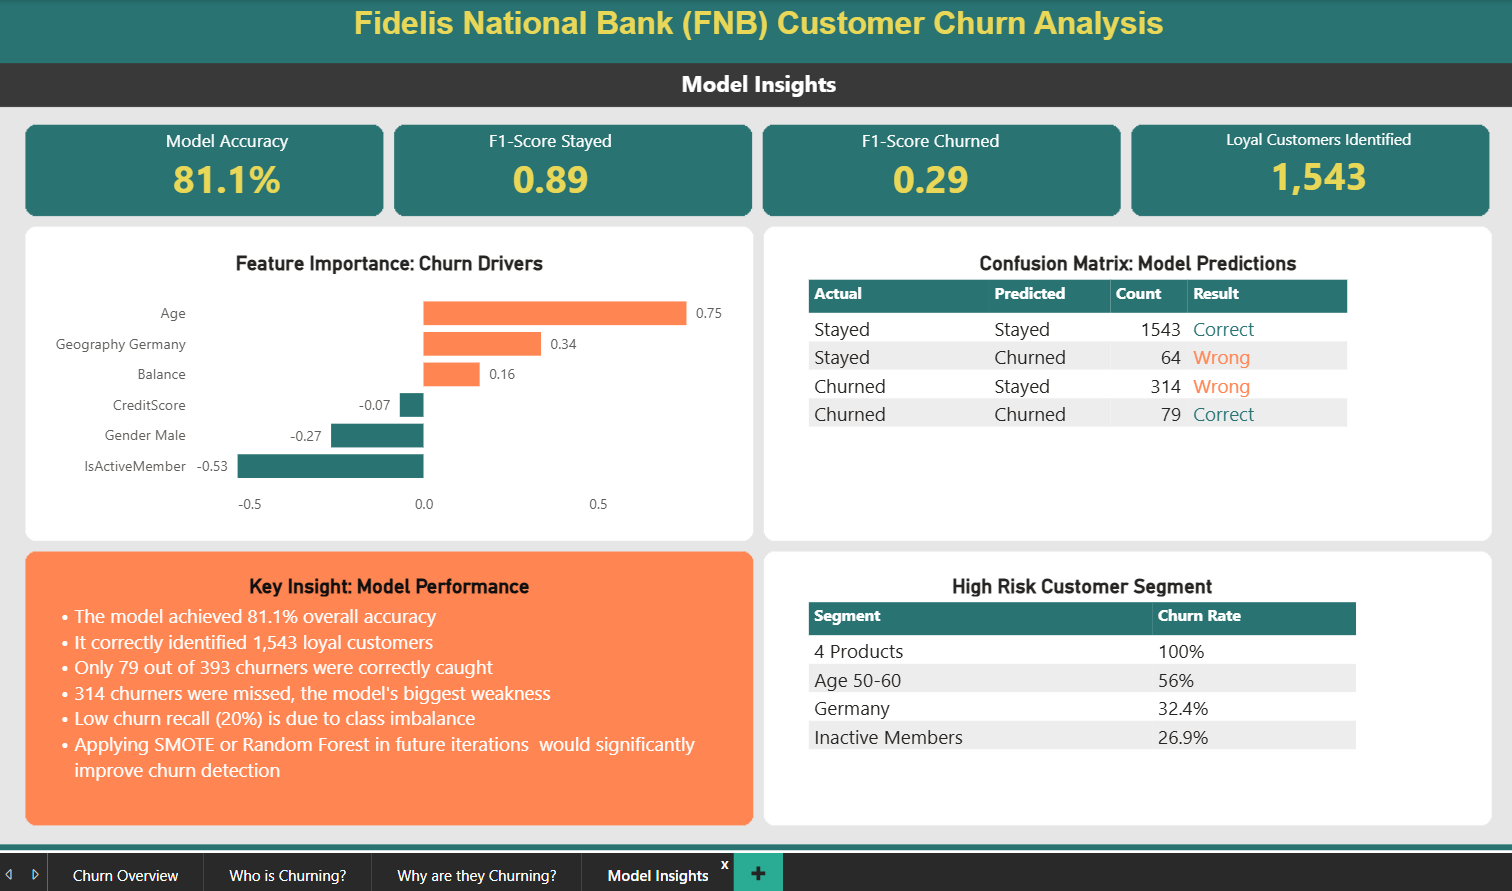

This screenshot's page, from the dashboard's own definition file:
{"tool":"powerbi","page":{"name":"Model Insights","canvas":[1280,720],"ordinal":3},"visuals":[{"type":"textbox","box":[0,0,1280.2,52.3],"z":0},{"type":"textbox","box":[0,52.3,1280.2,37.2],"z":1000},{"type":"textbox","title":"Key Insight: Model Performance","box":[33.7,483.7,589.5,208.1],"z":2000},{"type":"textbox","box":[100,103.3,182.6,76.7],"z":3000},{"type":"textbox","box":[340.1,103.3,250,76.7],"z":4000},{"type":"textbox","box":[647.6,103.3,275.6,76.7],"z":5000},{"type":"textbox","box":[980.7,103.3,263.6,77],"z":6000},{"type":"clusteredBarChart","title":"Feature Importance: Churn Drivers","fields":{"Y":["Sum(ChurnDrivers.Coefficient)"],"Category":["ChurnDrivers.Feature"]},"box":[33.7,211.6,589.5,231.4],"z":7000},{"type":"tableEx","title":"Confusion Matrix: Model Predictions","fields":{"Values":["ConfusionMatrix.Actual","ConfusionMatrix.Predicted","Sum(ConfusionMatrix.Count)","ConfusionMatrix.Result","ConfusionMatrix.Order"]},"box":[675.6,211.6,568.6,231.4],"z":8000},{"type":"tableEx","title":"High Risk Customer Segment","fields":{"Values":["HighRiskProfile.Segment","HighRiskProfile.Churn Rate"]},"box":[675.6,483.7,474.4,208.1],"z":9000}]}

Visuals, with their boxes on the page's 1280x720 design canvas (x1, y1, x2, y2). These are canvas units, not pixel positions in the 1512x891 screenshot, which may show the page scaled, cropped or inside an application window:
textbox: locate(0, 0, 1280, 52)
textbox: locate(0, 52, 1280, 90)
"Key Insight: Model Performance" textbox: locate(34, 484, 623, 692)
textbox: locate(100, 103, 283, 180)
textbox: locate(340, 103, 590, 180)
textbox: locate(648, 103, 923, 180)
textbox: locate(981, 103, 1244, 180)
"Feature Importance: Churn Drivers" clusteredBarChart: locate(34, 212, 623, 443)
"Confusion Matrix: Model Predictions" tableEx: locate(676, 212, 1244, 443)
"High Risk Customer Segment" tableEx: locate(676, 484, 1150, 692)
